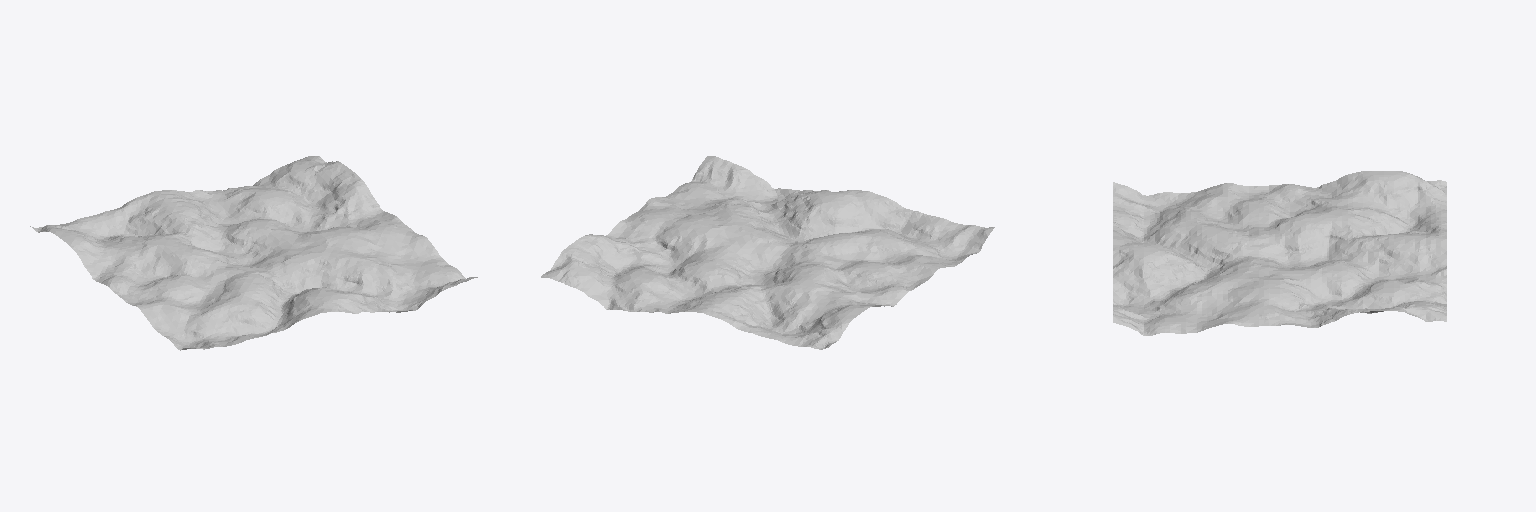
Rendered from landscape.obj.
3 renders of one model, left to right at view 1: azimuth 30°, elevation 25°; view 2: azimuth 150°, elevation 25°; view 3: azimuth 270°, elevation 25°, orthographic.
Parts seen in each view (by area): view 1: terrain_g; view 2: terrain_g; view 3: terrain_g.
Boxes of the visible parts, x1=… form: terrain_g: x1=30, y1=156, x2=477, y2=350; terrain_g: x1=541, y1=156, x2=994, y2=349; terrain_g: x1=1113, y1=171, x2=1446, y2=335.
Bounding box in the file's own units: 10230 × 1031 × 10230.